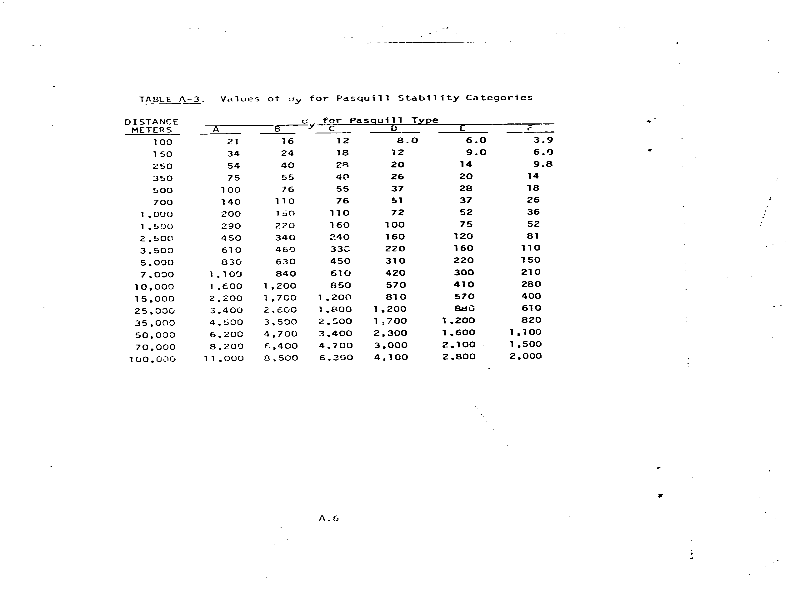table: (116, 109, 570, 380)
